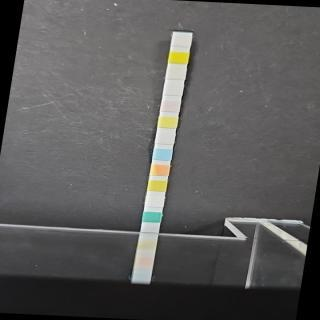mark: (168, 51, 190, 64), (161, 100, 181, 114), (148, 178, 167, 192), (150, 164, 170, 177), (156, 132, 174, 146), (172, 36, 192, 48), (166, 68, 186, 80), (164, 84, 184, 96), (144, 196, 164, 208), (142, 212, 162, 224), (159, 116, 177, 128), (154, 149, 172, 161)
